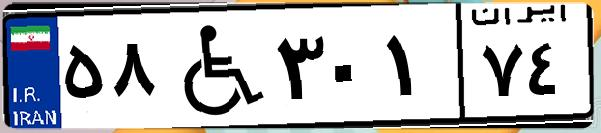0: (330, 28, 385, 110)
1: (385, 28, 445, 110)
3: (270, 28, 330, 110)
4: (525, 38, 570, 115)
5: (57, 26, 110, 100)
7: (475, 38, 525, 113)
8: (110, 28, 158, 98)
ژ (معلولین و جانبازان): (158, 12, 270, 120)
